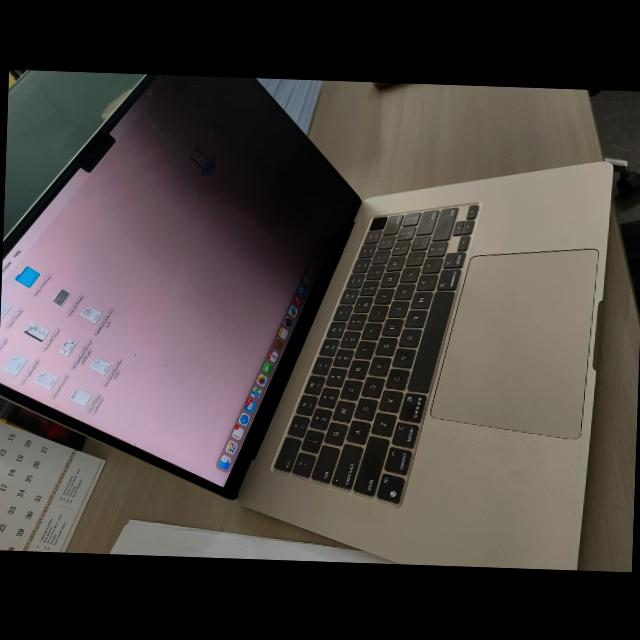laptop: (0, 68, 624, 557)
